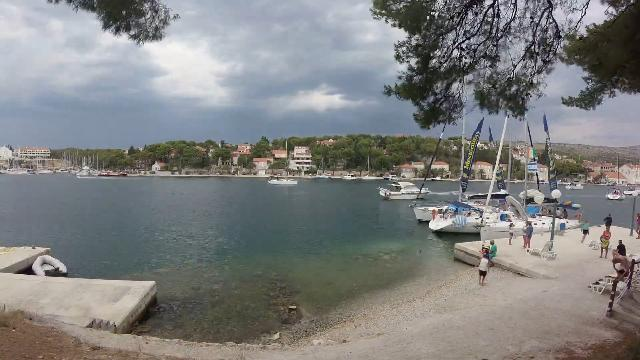Sailboat: (265, 170, 301, 188)
ferry: (373, 174, 435, 202)
